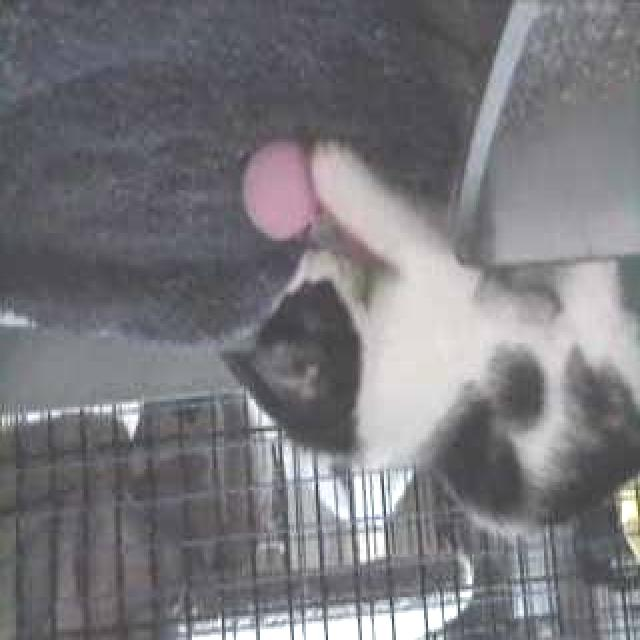Kucing: (184, 61, 638, 595)
